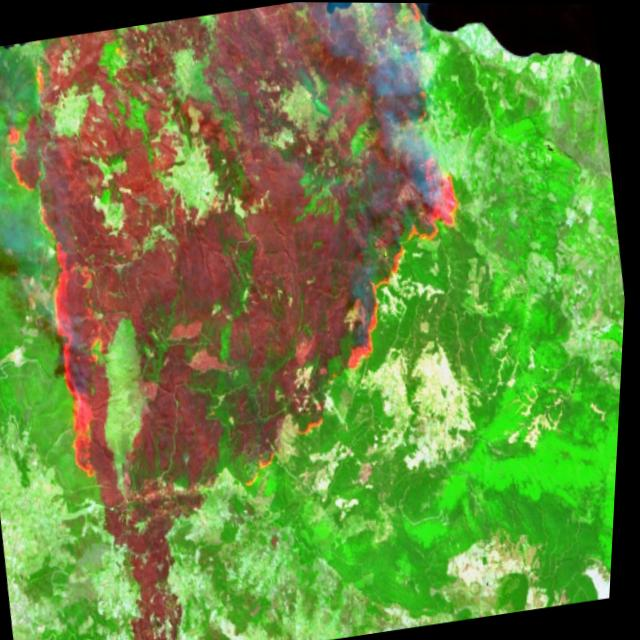fire: (171, 1, 517, 498), (0, 33, 152, 488)
